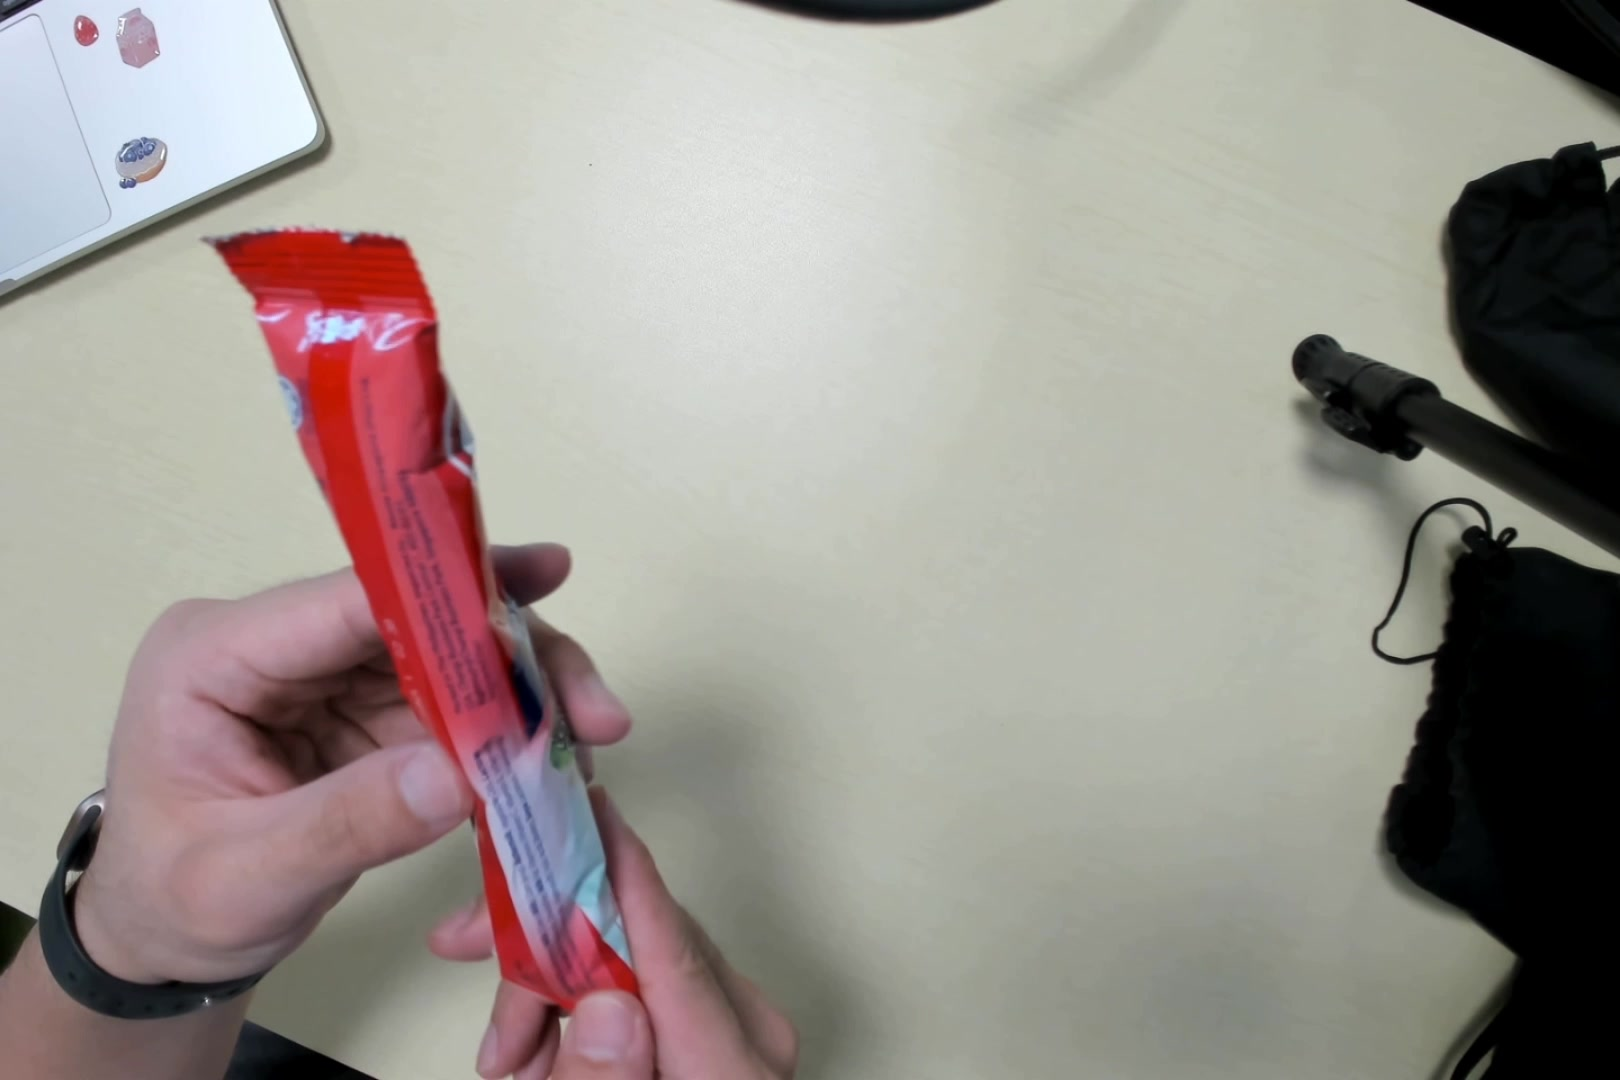MilkPowder_0-99g_Halal_NonHealthy: (241, 231, 635, 1000)
